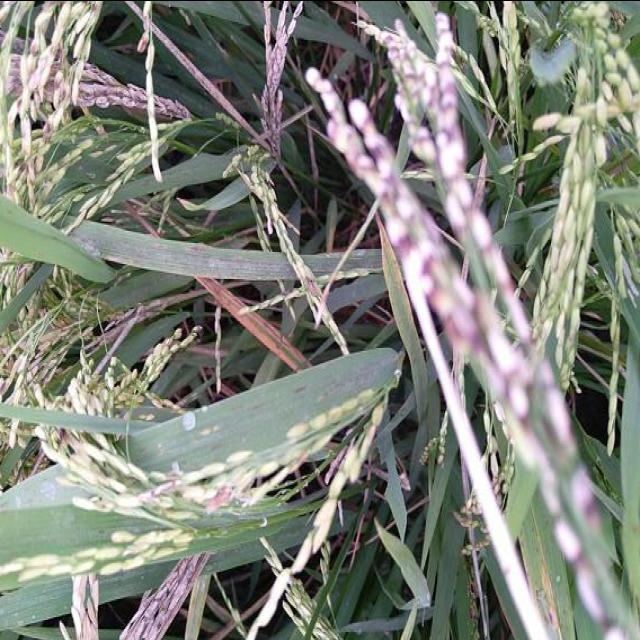Panicle Blight: (308, 8, 626, 631), (261, 0, 306, 156), (36, 113, 65, 143), (278, 452, 314, 472), (137, 9, 152, 53), (20, 114, 33, 162), (206, 488, 235, 509), (305, 275, 322, 308), (10, 264, 30, 291), (140, 484, 175, 499), (52, 427, 82, 443), (3, 171, 18, 198), (47, 41, 64, 63), (18, 159, 32, 177), (80, 0, 99, 12), (30, 352, 42, 371), (281, 285, 297, 296), (30, 39, 39, 56), (0, 0, 14, 9), (0, 379, 8, 389)
